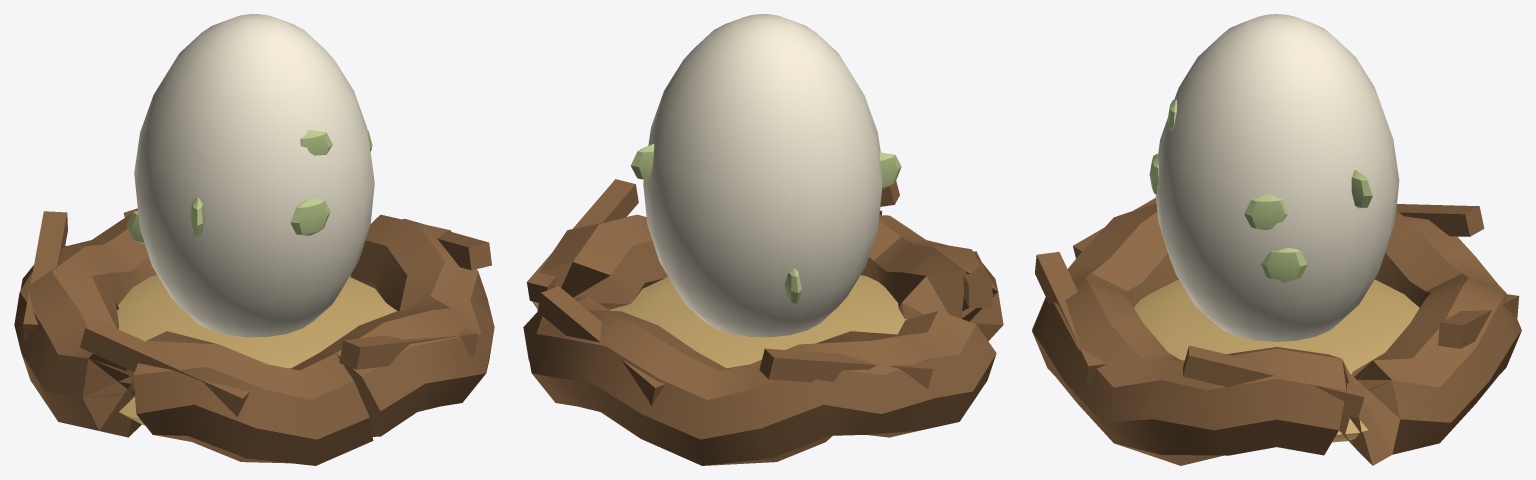
File: dino-egg.glb
The picture shows the model from 3 angles, left to right: view 1: azimuth 30°, elevation 25°; view 2: azimuth 150°, elevation 25°; view 3: azimuth 270°, elevation 25°; orthographic projection.
Visible parts, largest first — view 1: dino-egg; view 2: dino-egg; view 3: dino-egg.
Part boxes in pixels (x1,y1,x2,y2): dino-egg: [14, 14, 494, 465]; dino-egg: [523, 14, 1003, 465]; dino-egg: [1032, 14, 1521, 465].
Size of the model in its own units: 0.92 by 0.77 by 0.9192.
